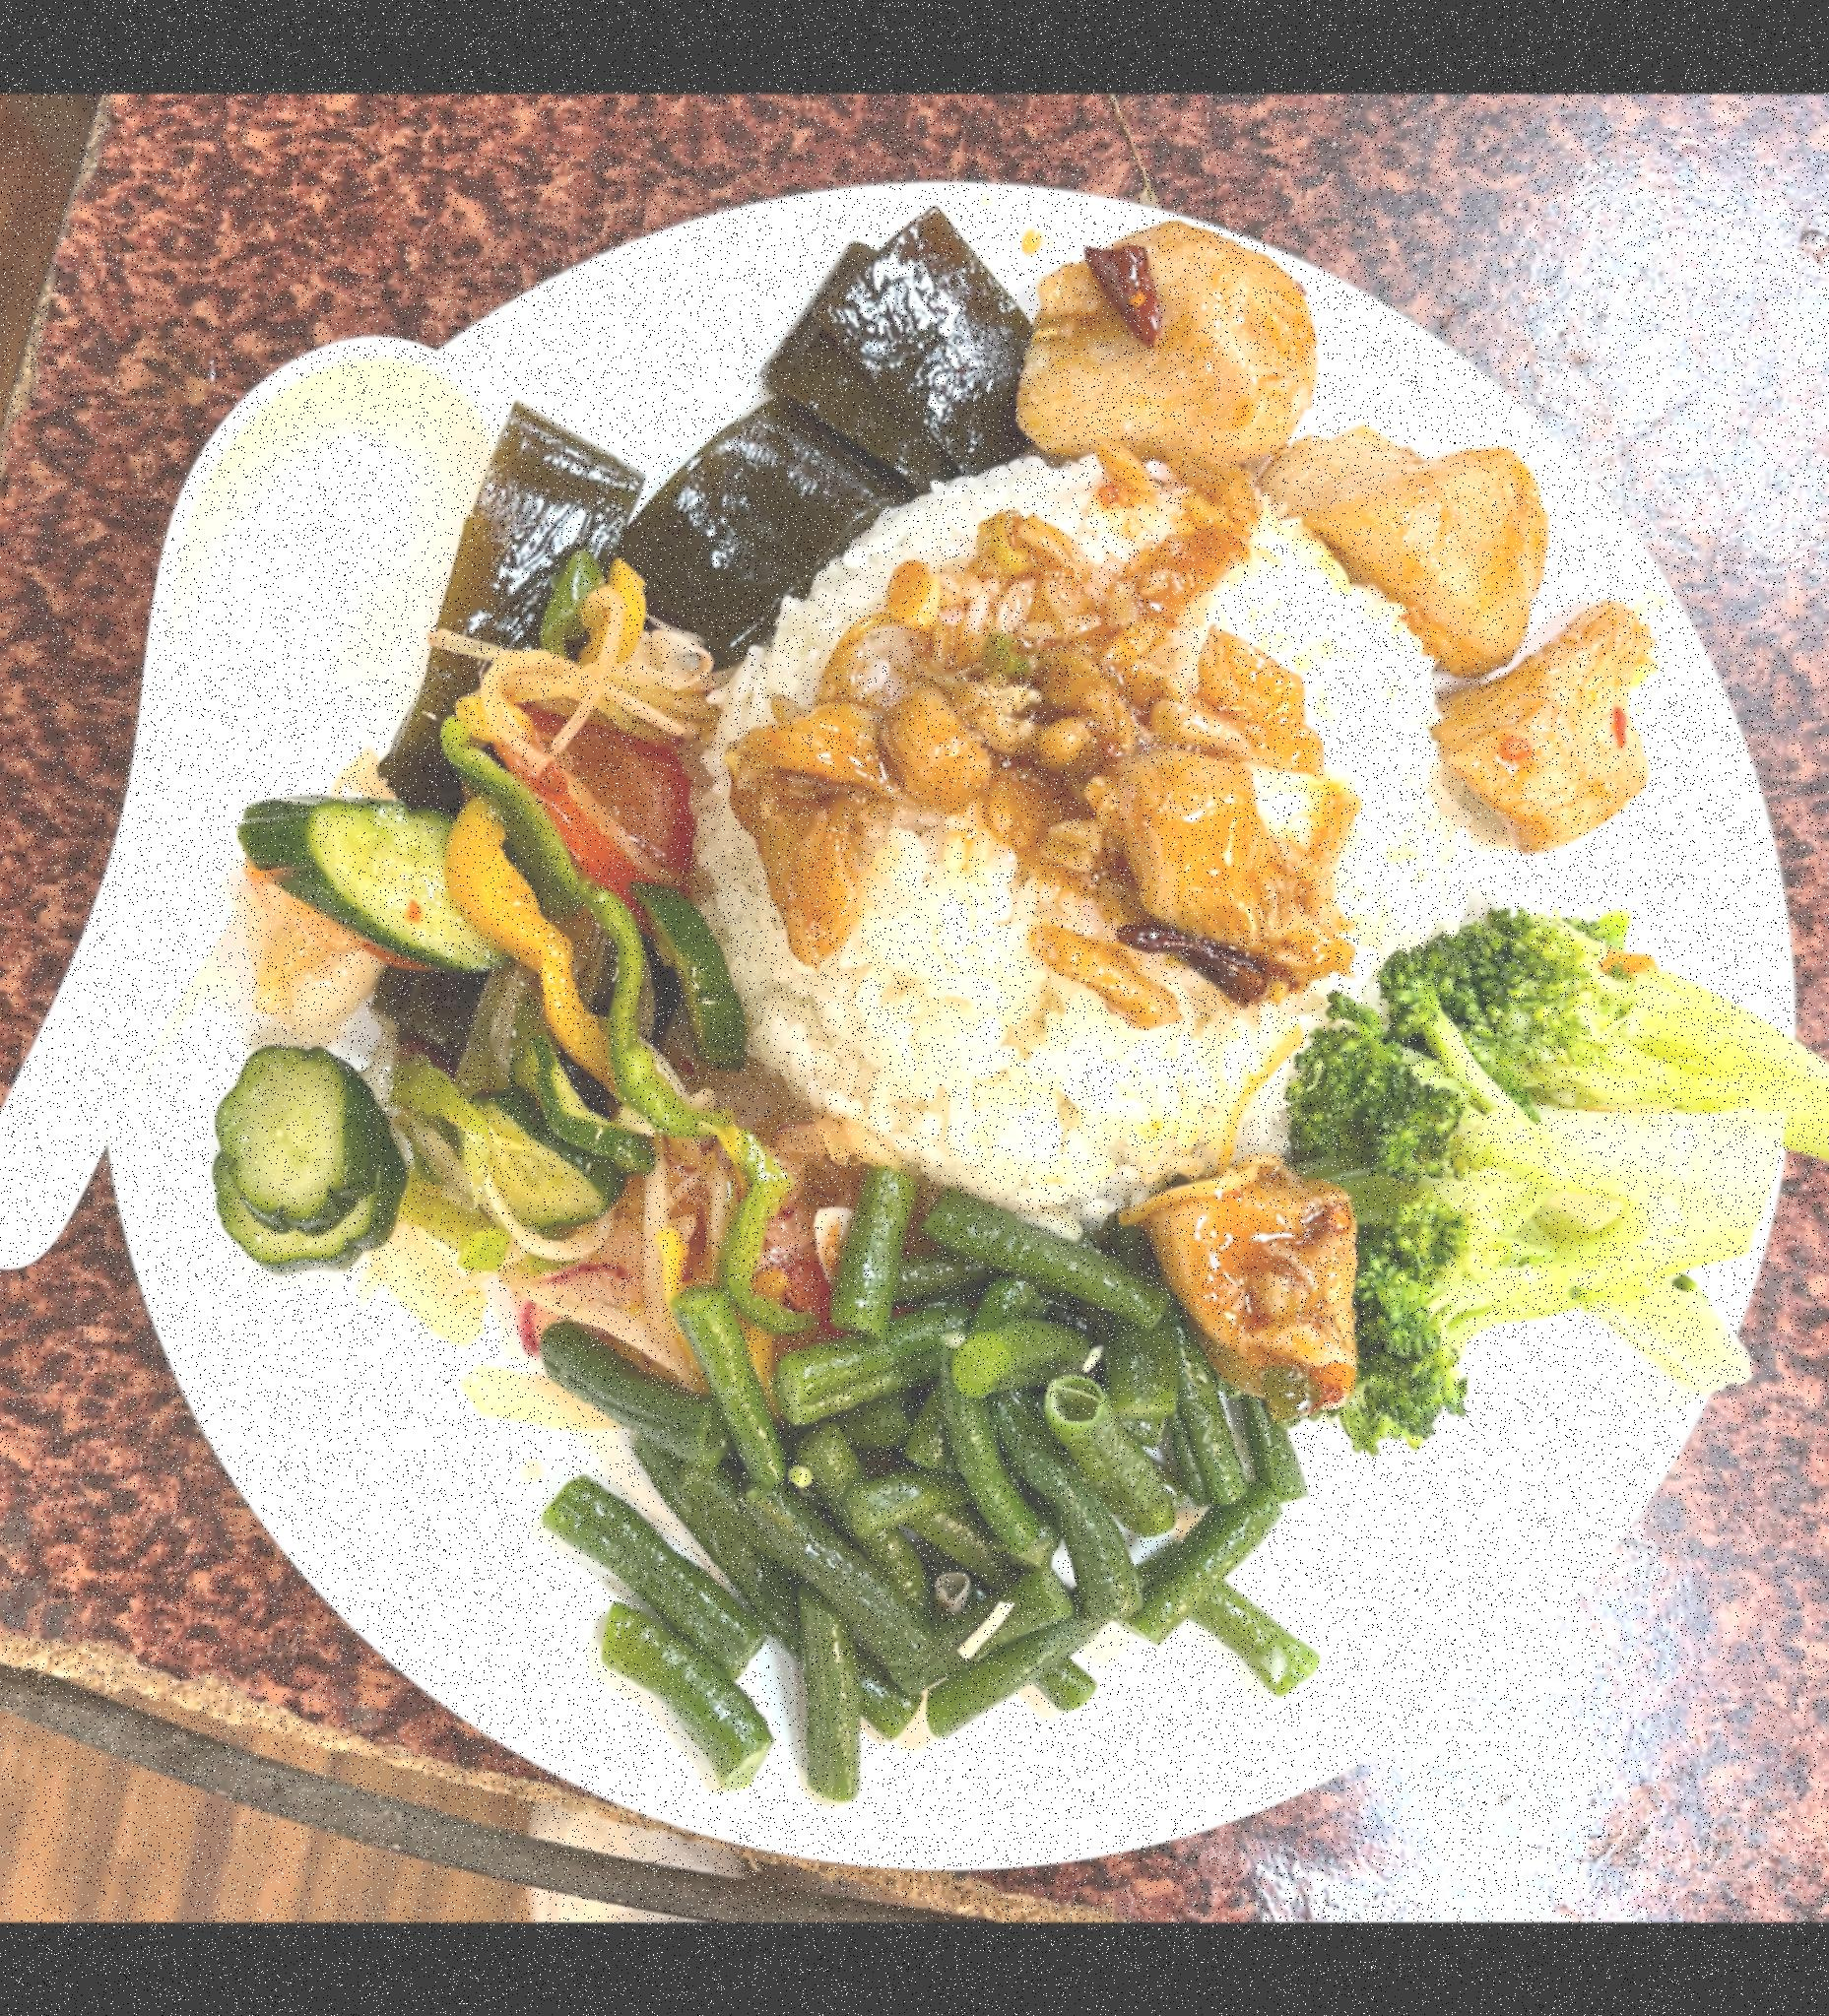plate: (84, 125, 1829, 1884)
side dish: (606, 1224, 1328, 1788), (230, 643, 759, 1352), (374, 241, 1051, 762), (1304, 934, 1829, 1421)
spicy chicken: (1008, 202, 1673, 845)
white rice: (719, 483, 1442, 1208)
